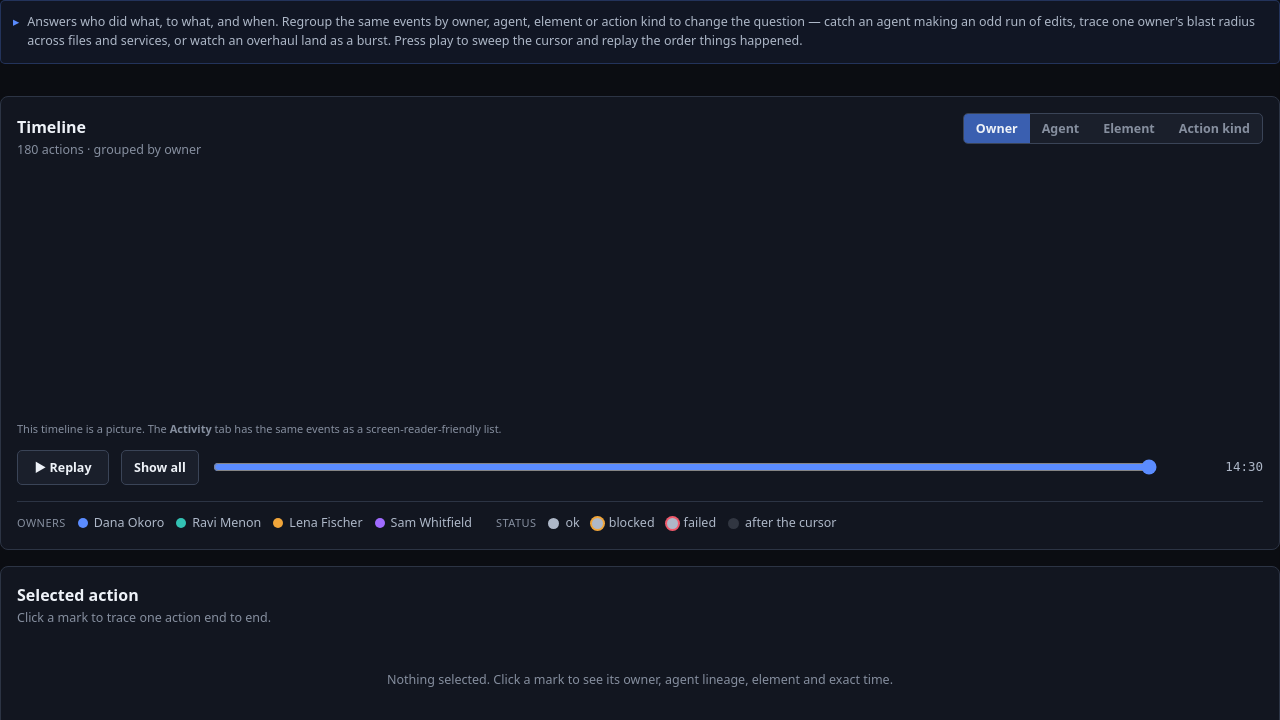
Test: VisualiserTab — canvas interaction › advances the cursor through the animation-frame loop while playing
What coordinates should you click on to do the following:
click the button "▶ Replay"
I would click on:
 (63, 467)
Its box is [17,450,109,485].
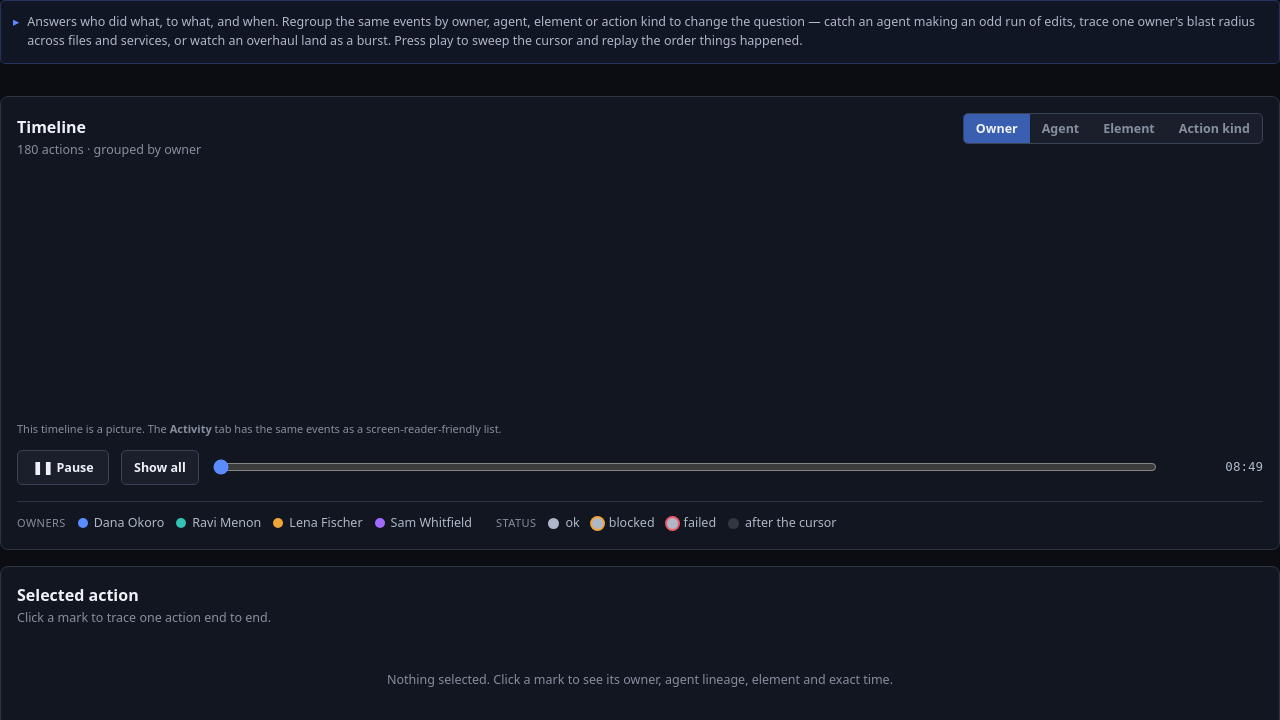
Now the button "❚❚ Pause" is shown, box [17,450,109,485]
